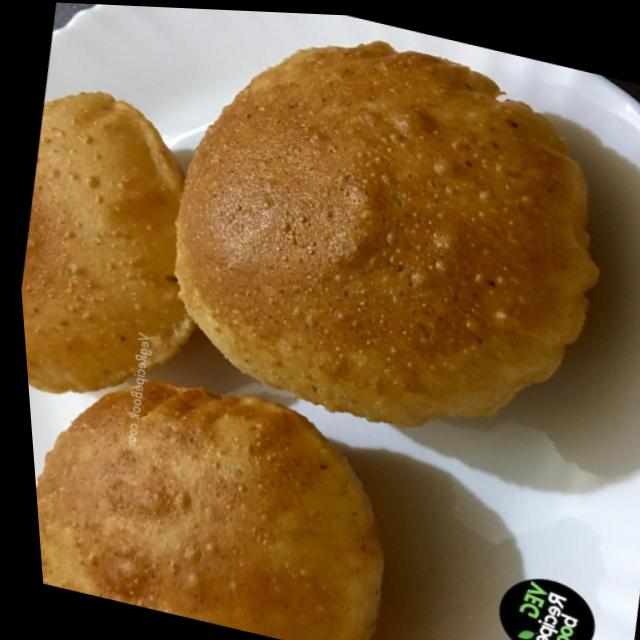POORI: (21, 42, 598, 425), (36, 383, 387, 640)
